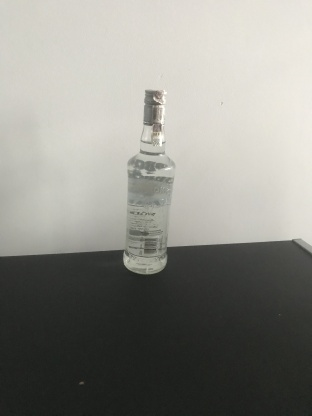nakretka: (141, 88, 168, 126)
